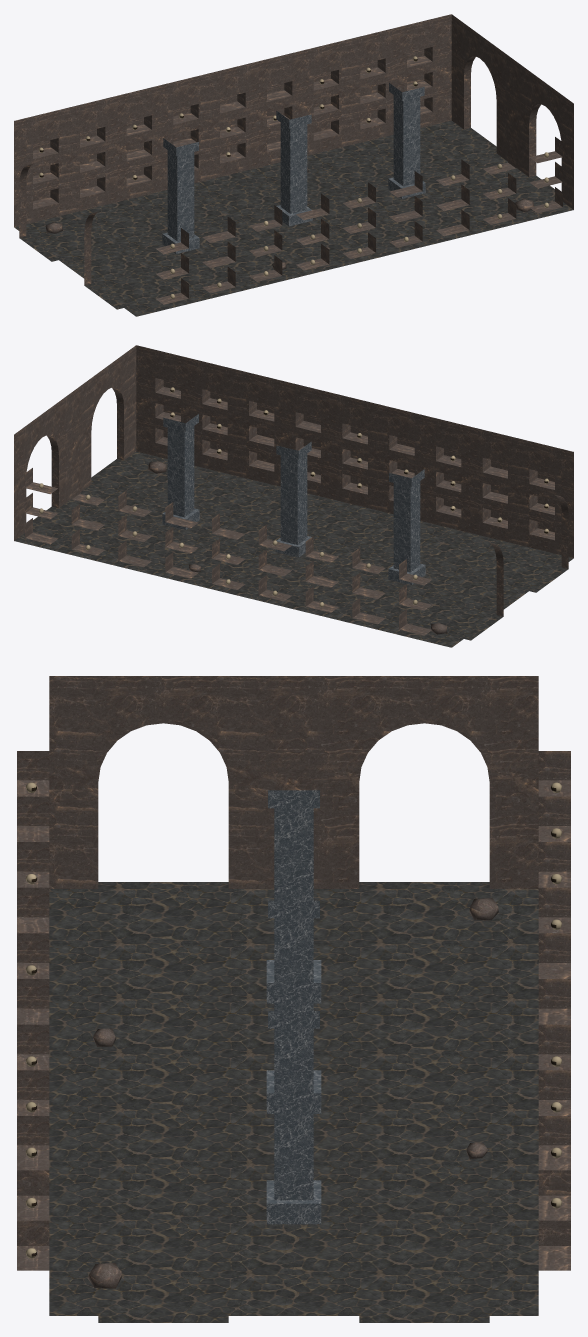
The model's file is room-gallery.6588b3bf.gltf.
3 renders of one model, top to bottom at view 1: azimuth 30°, elevation 25°; view 2: azimuth 150°, elevation 25°; view 3: azimuth 270°, elevation 25°, orthographic. The views are drawn at different scales.
Parts seen in each view (by area): view 1: room-gallery-mesh, room-gallery-bones; view 2: room-gallery-mesh, room-gallery-bones; view 3: room-gallery-mesh, room-gallery-bones.
Boxes of the visible parts, bbox=[...] form: room-gallery-mesh: bbox=[14, 14, 573, 316]; room-gallery-bones: bbox=[39, 56, 548, 299]; room-gallery-mesh: bbox=[14, 345, 573, 647]; room-gallery-bones: bbox=[39, 387, 548, 607]; room-gallery-mesh: bbox=[17, 676, 570, 1322]; room-gallery-bones: bbox=[26, 782, 561, 1258].
Bounding box in the file's own units: 16 × 3.71 × 8.5.
4 materials, 3 textured.
